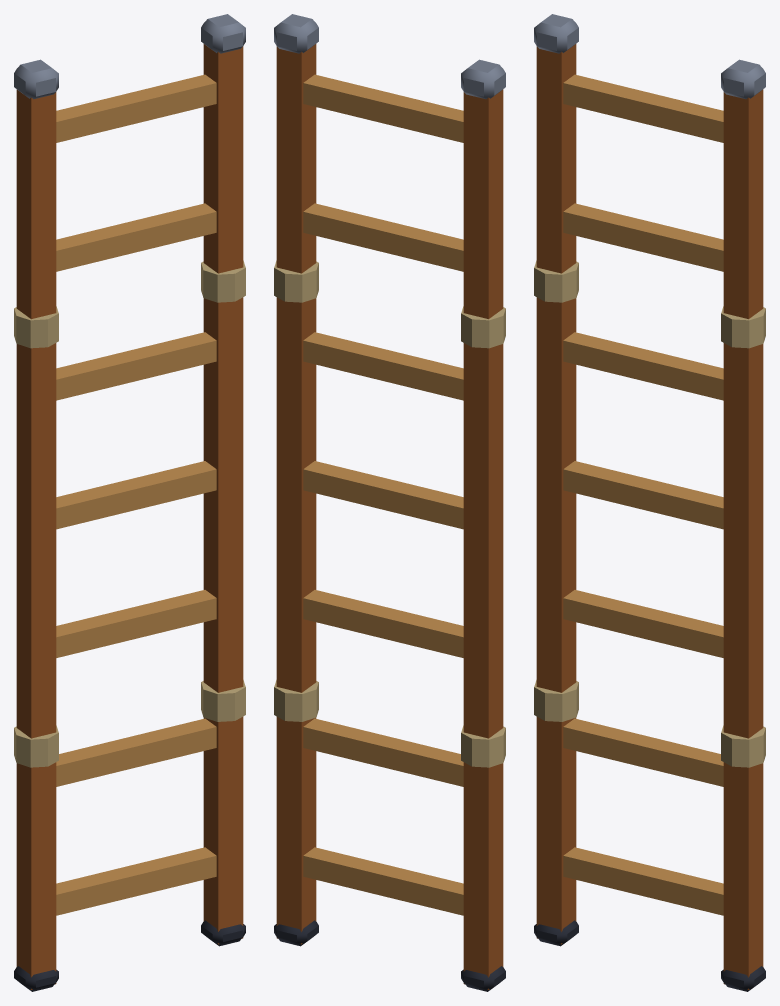
File: fx_ladder.glb
3 renders of one model, left to right at view 1: azimuth 30°, elevation 25°; view 2: azimuth 150°, elevation 25°; view 3: azimuth 330°, elevation 25°, orthographic.
Parts seen in each view (by area): view 1: body; view 2: body; view 3: body.
Part boxes in pixels (x1,y1,x2,y2): body: (14,14,245,991); body: (274,14,505,991); body: (534,14,765,991).
Bounding box in the file's own units: 0.68 × 2.63 × 0.12.
